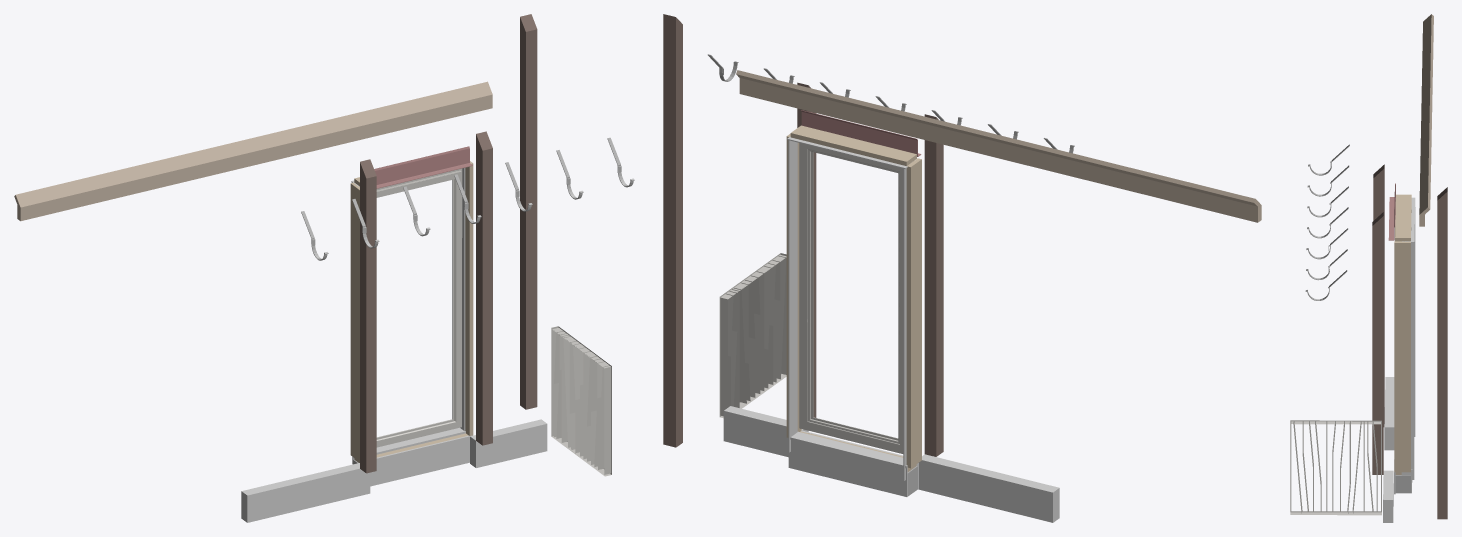
The picture shows the model from 3 angles, left to right: view 1: azimuth 30°, elevation 25°; view 2: azimuth 150°, elevation 25°; view 3: azimuth 270°, elevation 25°; orthographic projection. The views are drawn at different scales.
Size of the model in its own units: 5.24 by 3.71 by 1.55.
